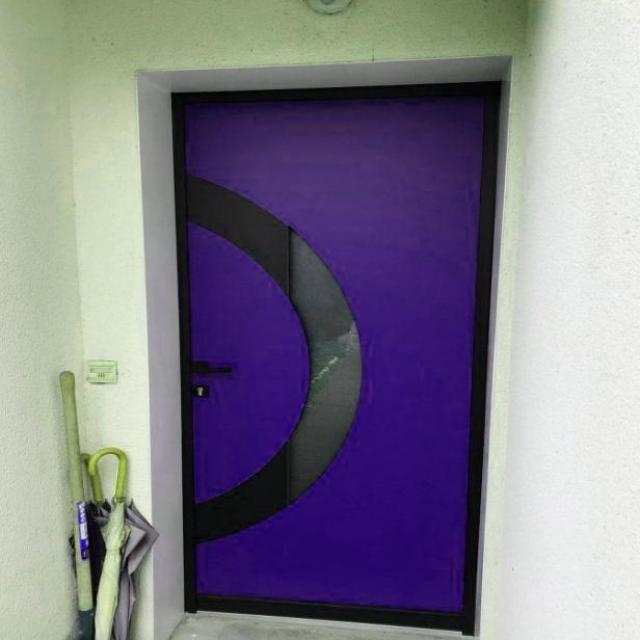door: (169, 75, 502, 632)
